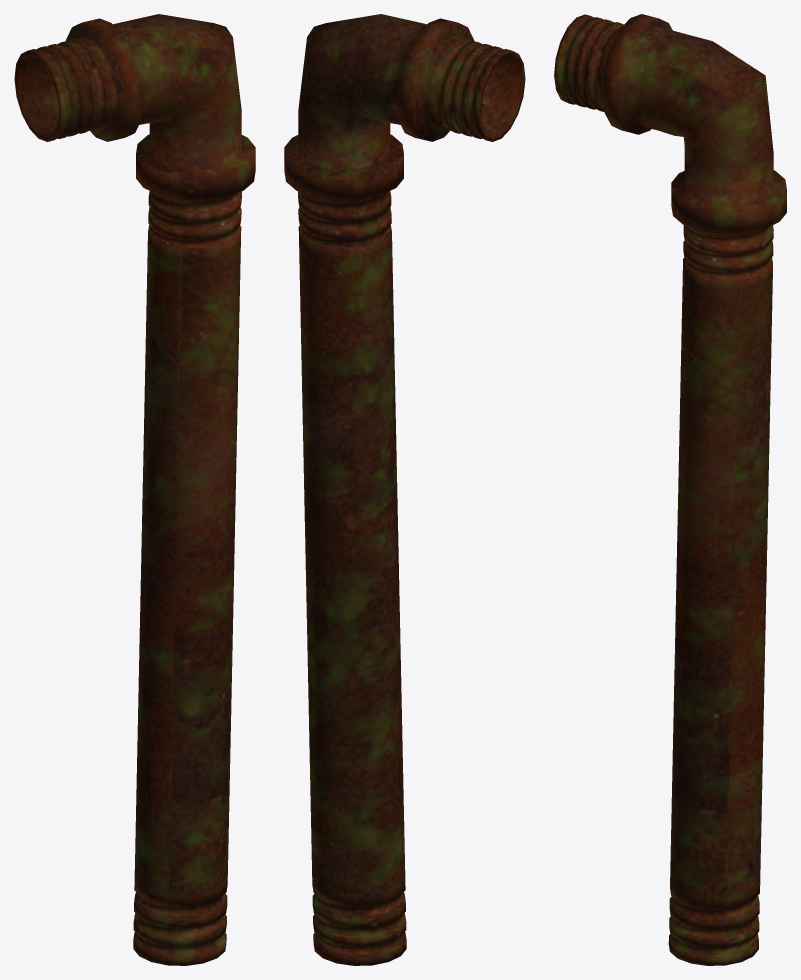
Rendered from rusty_mossy_metal_pipe.glb.
3 renders of one model, left to right at view 1: azimuth 30°, elevation 25°; view 2: azimuth 150°, elevation 25°; view 3: azimuth 330°, elevation 25°, orthographic. The views are drawn at different scales.
Visible parts, largest first — view 1: Cylinder; view 2: Cylinder; view 3: Cylinder.
Boxes of the visible parts, bbox=[...] form: Cylinder: bbox=[14, 14, 255, 965]; Cylinder: bbox=[284, 14, 525, 965]; Cylinder: bbox=[554, 14, 786, 965].
Size of the model in its own units: 0.9988 by 4.26 by 0.5043.
Materials: 1 (1 with a texture image).
